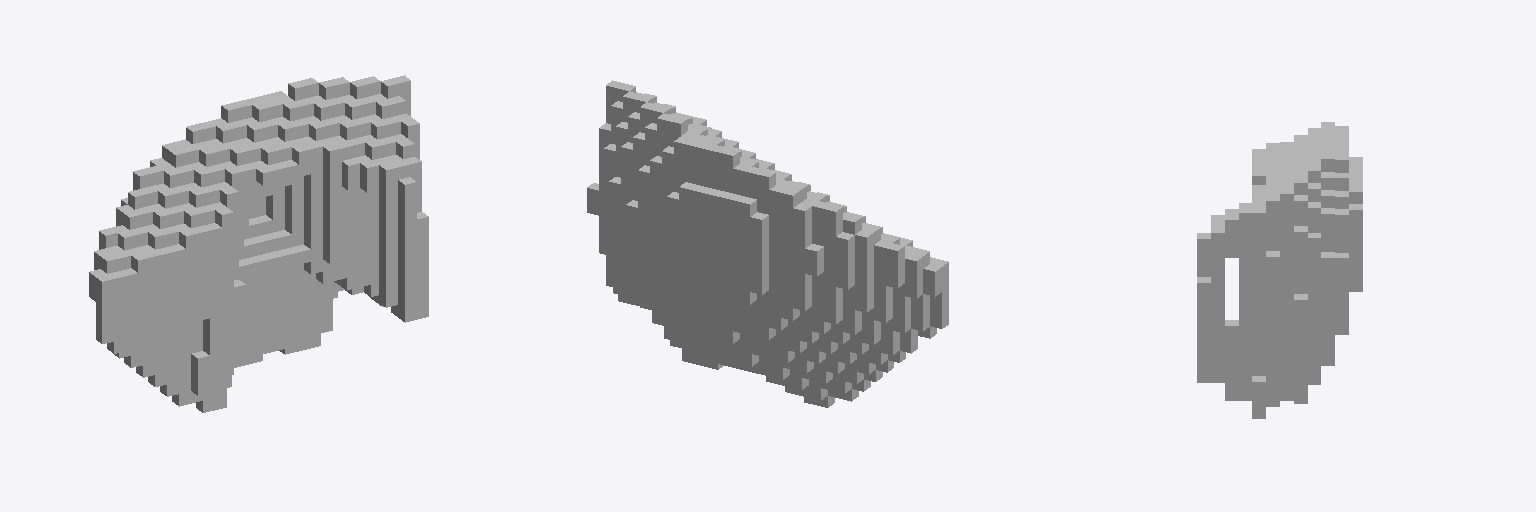
File: боковой осколок ( бок 1).obj
The picture shows the model from 3 angles: view 1: azimuth 30°, elevation 25°; view 2: azimuth 150°, elevation 25°; view 3: azimuth 270°, elevation 25°; orthographic projection.
Parts seen in each view (by area): view 1: object 1; view 2: object 1; view 3: object 1.
Boxes of the visible parts, <box> form: object 1: <box>89,75,428,412</box>; object 1: <box>587,80,948,407</box>; object 1: <box>1197,122,1362,418</box>.
Size of the model in its own units: 2.8 by 2.2 by 1.2.